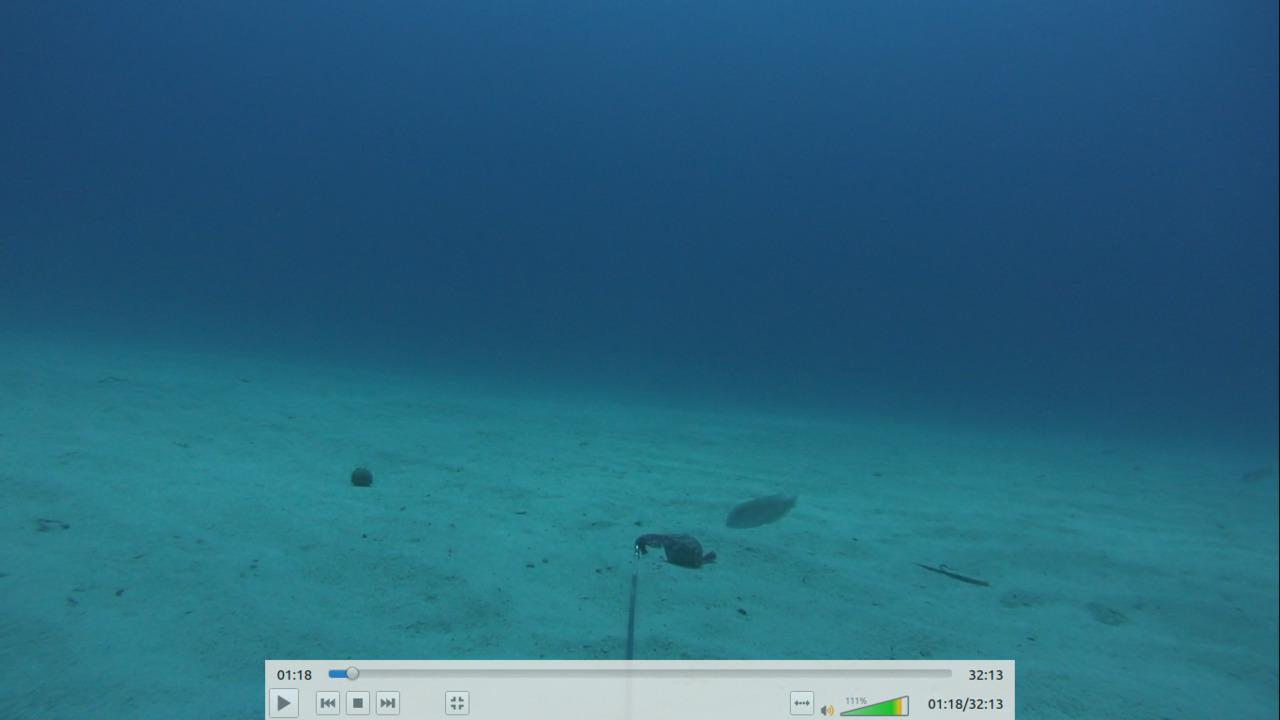raor: (720, 489, 803, 532)
